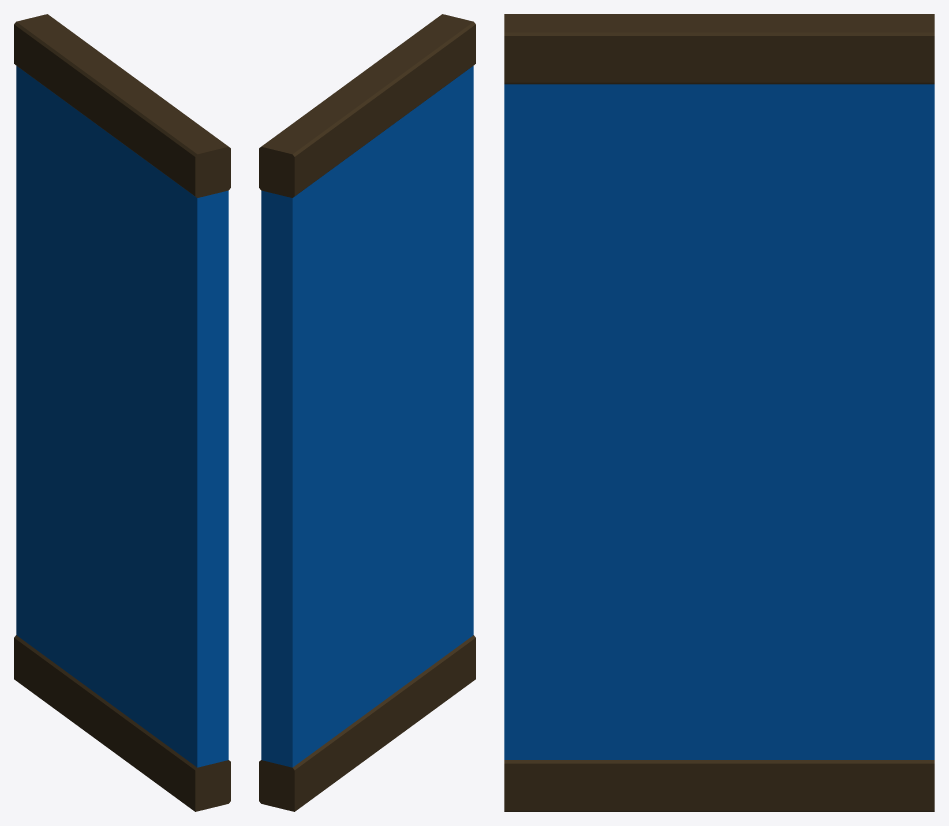
File: Wall.fbx
The picture shows the model from 3 angles, left to right: view 1: azimuth 30°, elevation 25°; view 2: azimuth 150°, elevation 25°; view 3: azimuth 270°, elevation 25°; orthographic projection. The views are drawn at different scales.
Visible parts, largest first — view 1: MediumWallTile; view 2: MediumWallTile; view 3: MediumWallTile.
Boxes of the visible parts, x1,y1,x2,y2 form: MediumWallTile: (14, 14, 230, 811); MediumWallTile: (259, 14, 475, 811); MediumWallTile: (504, 14, 934, 811).
Bounding box in the file's own units: 34 × 600 × 300.
